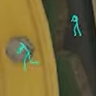hacks_2: (16, 41, 39, 71), (71, 15, 81, 37)
